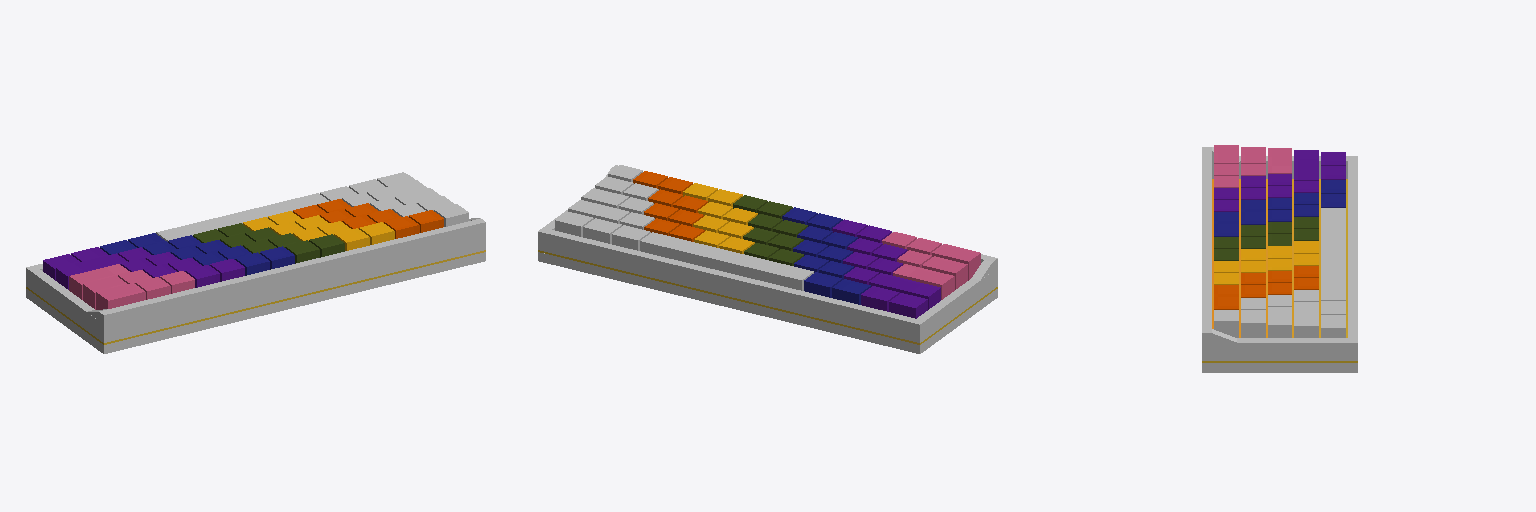
3 renders of one model, left to right at view 1: azimuth 30°, elevation 25°; view 2: azimuth 150°, elevation 25°; view 3: azimuth 270°, elevation 25°, orthographic.
Visible parts, largest first — view 1: key, frame, body, space_bar, backspace, rgb_strip, r_shift, enter, l_shift; view 2: key, frame, body, space_bar, r_shift, enter, rgb_strip, l_shift, backspace, caps_lock; view 3: key, frame, rgb_strip, space_bar, body, l_shift, r_shift, caps_lock, tab, enter.
Part boxes in pixels (bbox=[...]): key: bbox=[43, 172, 468, 309]; frame: bbox=[26, 174, 485, 342]; body: bbox=[26, 252, 485, 353]; space_bar: bbox=[156, 193, 328, 241]; backspace: bbox=[96, 283, 145, 309]; rgb_strip: bbox=[26, 250, 485, 344]; r_shift: bbox=[56, 253, 127, 289]; enter: bbox=[69, 264, 129, 299]; l_shift: bbox=[367, 180, 427, 200]; key: bbox=[555, 165, 967, 318]; frame: bbox=[538, 165, 997, 342]; body: bbox=[538, 252, 997, 353]; space_bar: bbox=[640, 232, 813, 290]; r_shift: bbox=[869, 273, 940, 309]; enter: bbox=[893, 264, 954, 299]; rgb_strip: bbox=[538, 250, 997, 344]; l_shift: bbox=[568, 200, 629, 223]; backspace: bbox=[932, 244, 980, 280]; caps_lock: bbox=[581, 188, 628, 208]; key: bbox=[1214, 147, 1345, 337]; frame: bbox=[1202, 147, 1357, 360]; rgb_strip: bbox=[1202, 179, 1357, 362]; space_bar: bbox=[1321, 208, 1345, 286]; body: bbox=[1202, 363, 1357, 372]; l_shift: bbox=[1294, 302, 1318, 337]; r_shift: bbox=[1294, 150, 1318, 180]; caps_lock: bbox=[1268, 307, 1291, 337]; tab: bbox=[1241, 310, 1265, 337]; enter: bbox=[1268, 148, 1291, 173].
Size of the model in its own units: 21.5 by 2.5 by 7.6.
10 materials, 7 textured.